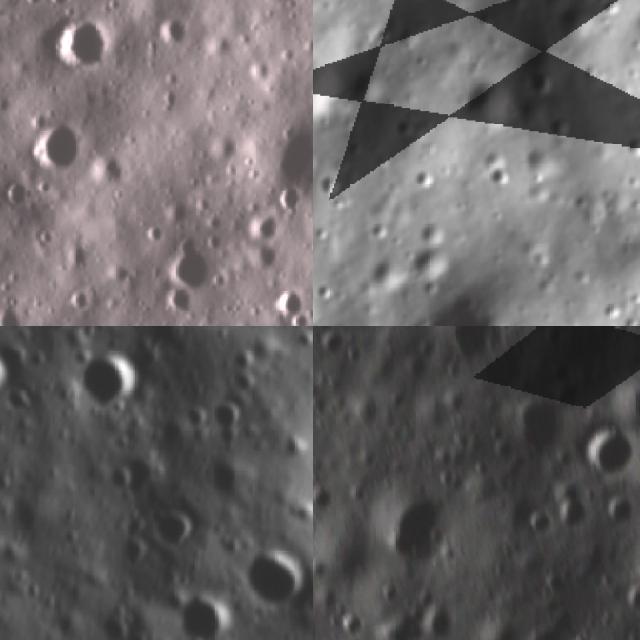crater: (31, 0, 130, 94), (14, 96, 108, 193), (231, 543, 312, 619), (68, 344, 146, 420), (253, 103, 313, 198), (155, 227, 227, 303), (385, 490, 446, 575), (413, 277, 517, 326), (456, 75, 521, 133), (237, 198, 300, 255), (313, 42, 357, 122), (106, 447, 172, 500), (173, 583, 233, 640), (513, 394, 564, 457), (206, 457, 258, 512), (262, 274, 313, 326), (588, 424, 637, 478), (151, 512, 203, 555), (196, 394, 247, 436), (149, 414, 194, 460), (453, 326, 504, 365), (270, 426, 313, 469), (1, 384, 43, 423), (220, 361, 261, 398), (414, 216, 451, 256), (558, 484, 593, 524), (612, 379, 640, 426), (92, 608, 131, 640), (115, 534, 151, 568), (419, 611, 457, 640), (314, 175, 350, 203), (224, 344, 258, 372), (546, 115, 578, 144), (333, 609, 367, 636), (538, 569, 570, 596), (529, 507, 557, 536), (513, 626, 569, 640), (610, 494, 632, 525), (362, 222, 388, 248), (313, 488, 338, 514), (488, 163, 512, 190), (621, 581, 640, 615), (322, 335, 349, 357), (625, 128, 640, 164), (414, 168, 434, 193), (313, 223, 334, 246), (343, 348, 366, 364), (124, 628, 150, 640), (555, 362, 568, 384)
